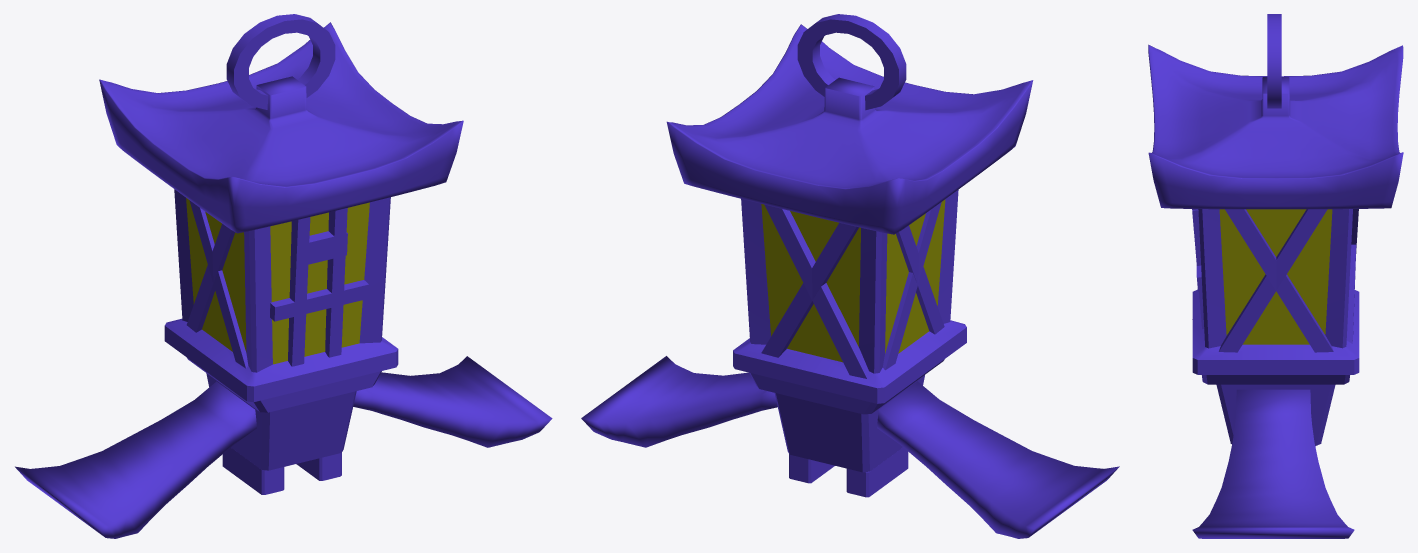
The model's file is EnemyS.fbx.
3 views of the same model, side by side, from view 1: azimuth 30°, elevation 25°; view 2: azimuth 150°, elevation 25°; view 3: azimuth 270°, elevation 25° (orthographic). The views are drawn at different scales.
Visible parts, largest first — view 1: Body, RightHand, Light, LeftHand, RightFoot, LeftFoot; view 2: Body, RightHand, Light, LeftHand, RightFoot, LeftFoot; view 3: Body, LeftHand, Light.
Part boxes in pixels (left/top/right/bottom): Body: left=99, top=14, right=463, bottom=470; RightHand: left=15, top=381, right=256, bottom=538; Light: left=186, top=198, right=369, bottom=364; LeftHand: left=353, top=356, right=552, bottom=447; RightFoot: left=222, top=447, right=284, bottom=494; LeftFoot: left=296, top=453, right=341, bottom=480; Body: left=666, top=14, right=1033, bottom=472; RightHand: left=877, top=381, right=1119, bottom=538; Light: left=761, top=199, right=945, bottom=362; LeftHand: left=581, top=356, right=777, bottom=447; RightFoot: left=846, top=447, right=908, bottom=497; LeftFoot: left=789, top=454, right=834, bottom=483; Body: left=1148, top=14, right=1403, bottom=445; LeftHand: left=1192, top=389, right=1354, bottom=538; Light: left=1219, top=209, right=1332, bottom=344.
Bounding box in the file's own units: 67.36 × 34.54 × 64.52.
